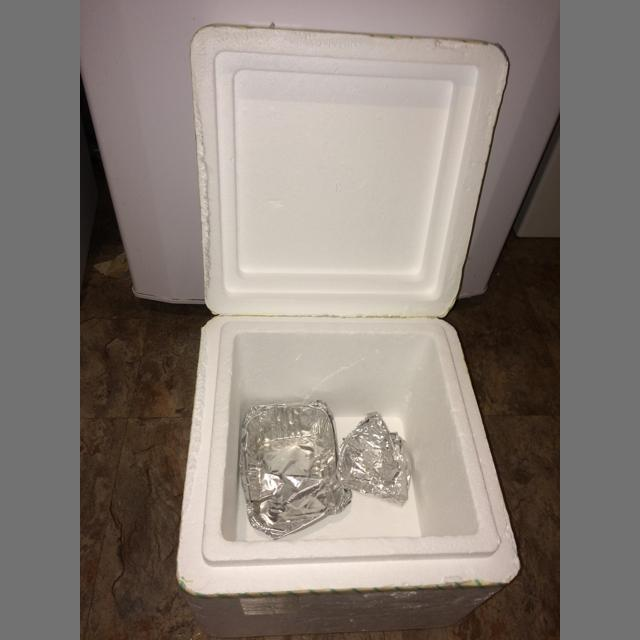litter: (176, 24, 521, 637), (238, 400, 358, 540), (338, 411, 412, 507)
